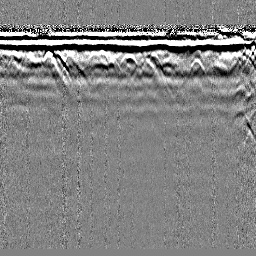cavity: (119, 53, 138, 66)
